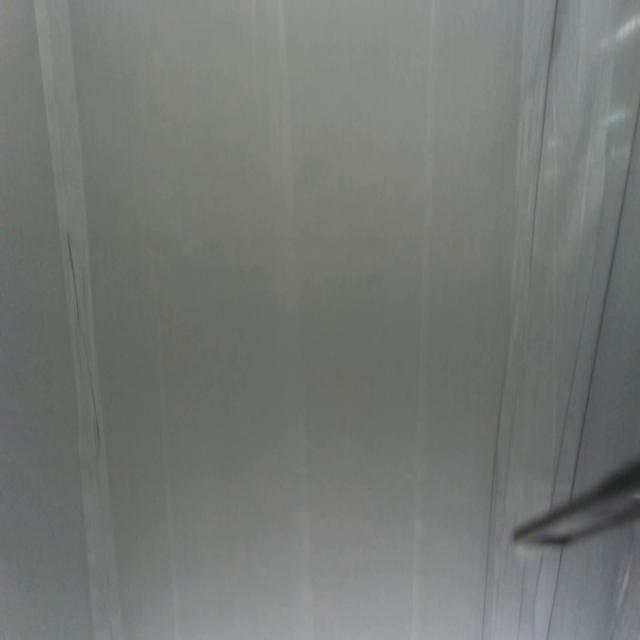crease: (34, 0, 124, 636), (525, 0, 564, 284), (478, 334, 512, 626)
